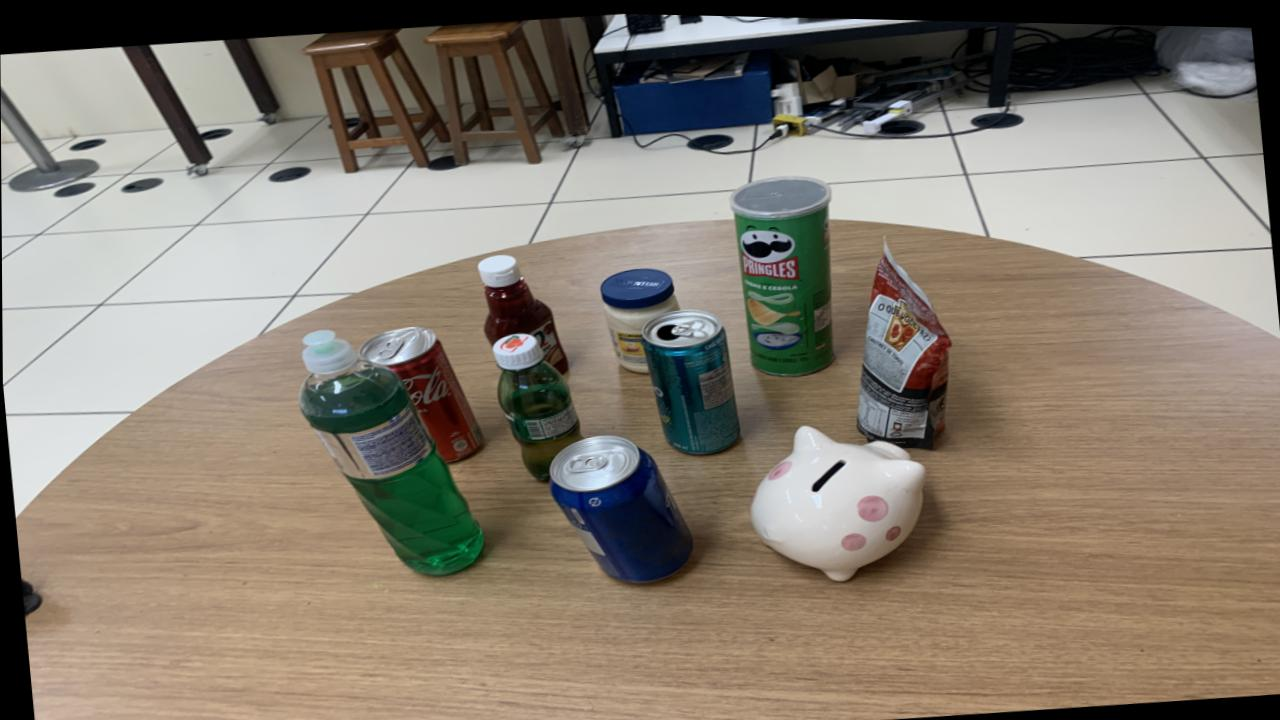Coke-Drinks: (357, 325, 483, 460)
Detergent-Cleanup_Items: (298, 328, 483, 574)
Guarana-Drinks: (492, 330, 578, 478)
Ketchup-Pantry_Items: (477, 253, 567, 370)
Mayonnaise-Pantry_Items: (599, 265, 679, 370)
Pig_Safe-Miscellaneous: (749, 422, 925, 578)
Pringles-Snacks: (728, 172, 834, 373)
Tea-Drinks: (641, 306, 740, 451)
Tomato_Sauce-Pantry_Items: (855, 237, 950, 444)
Tonic-Drinks: (548, 432, 691, 579)
